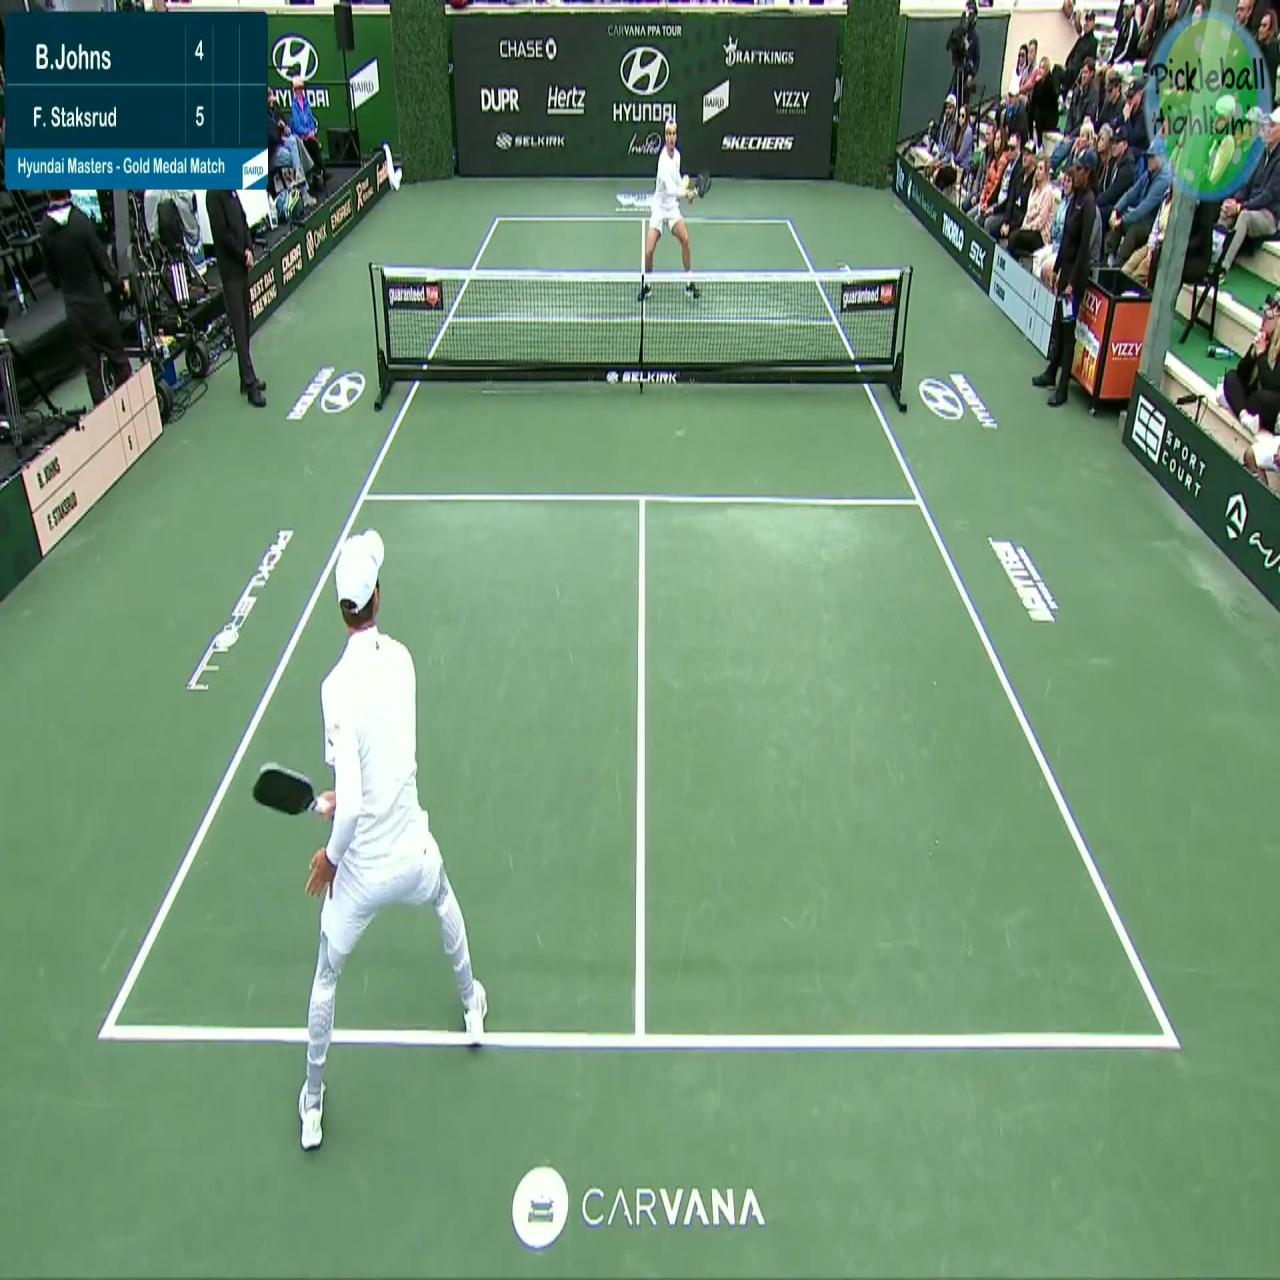pickleball: (682, 173, 690, 188)
